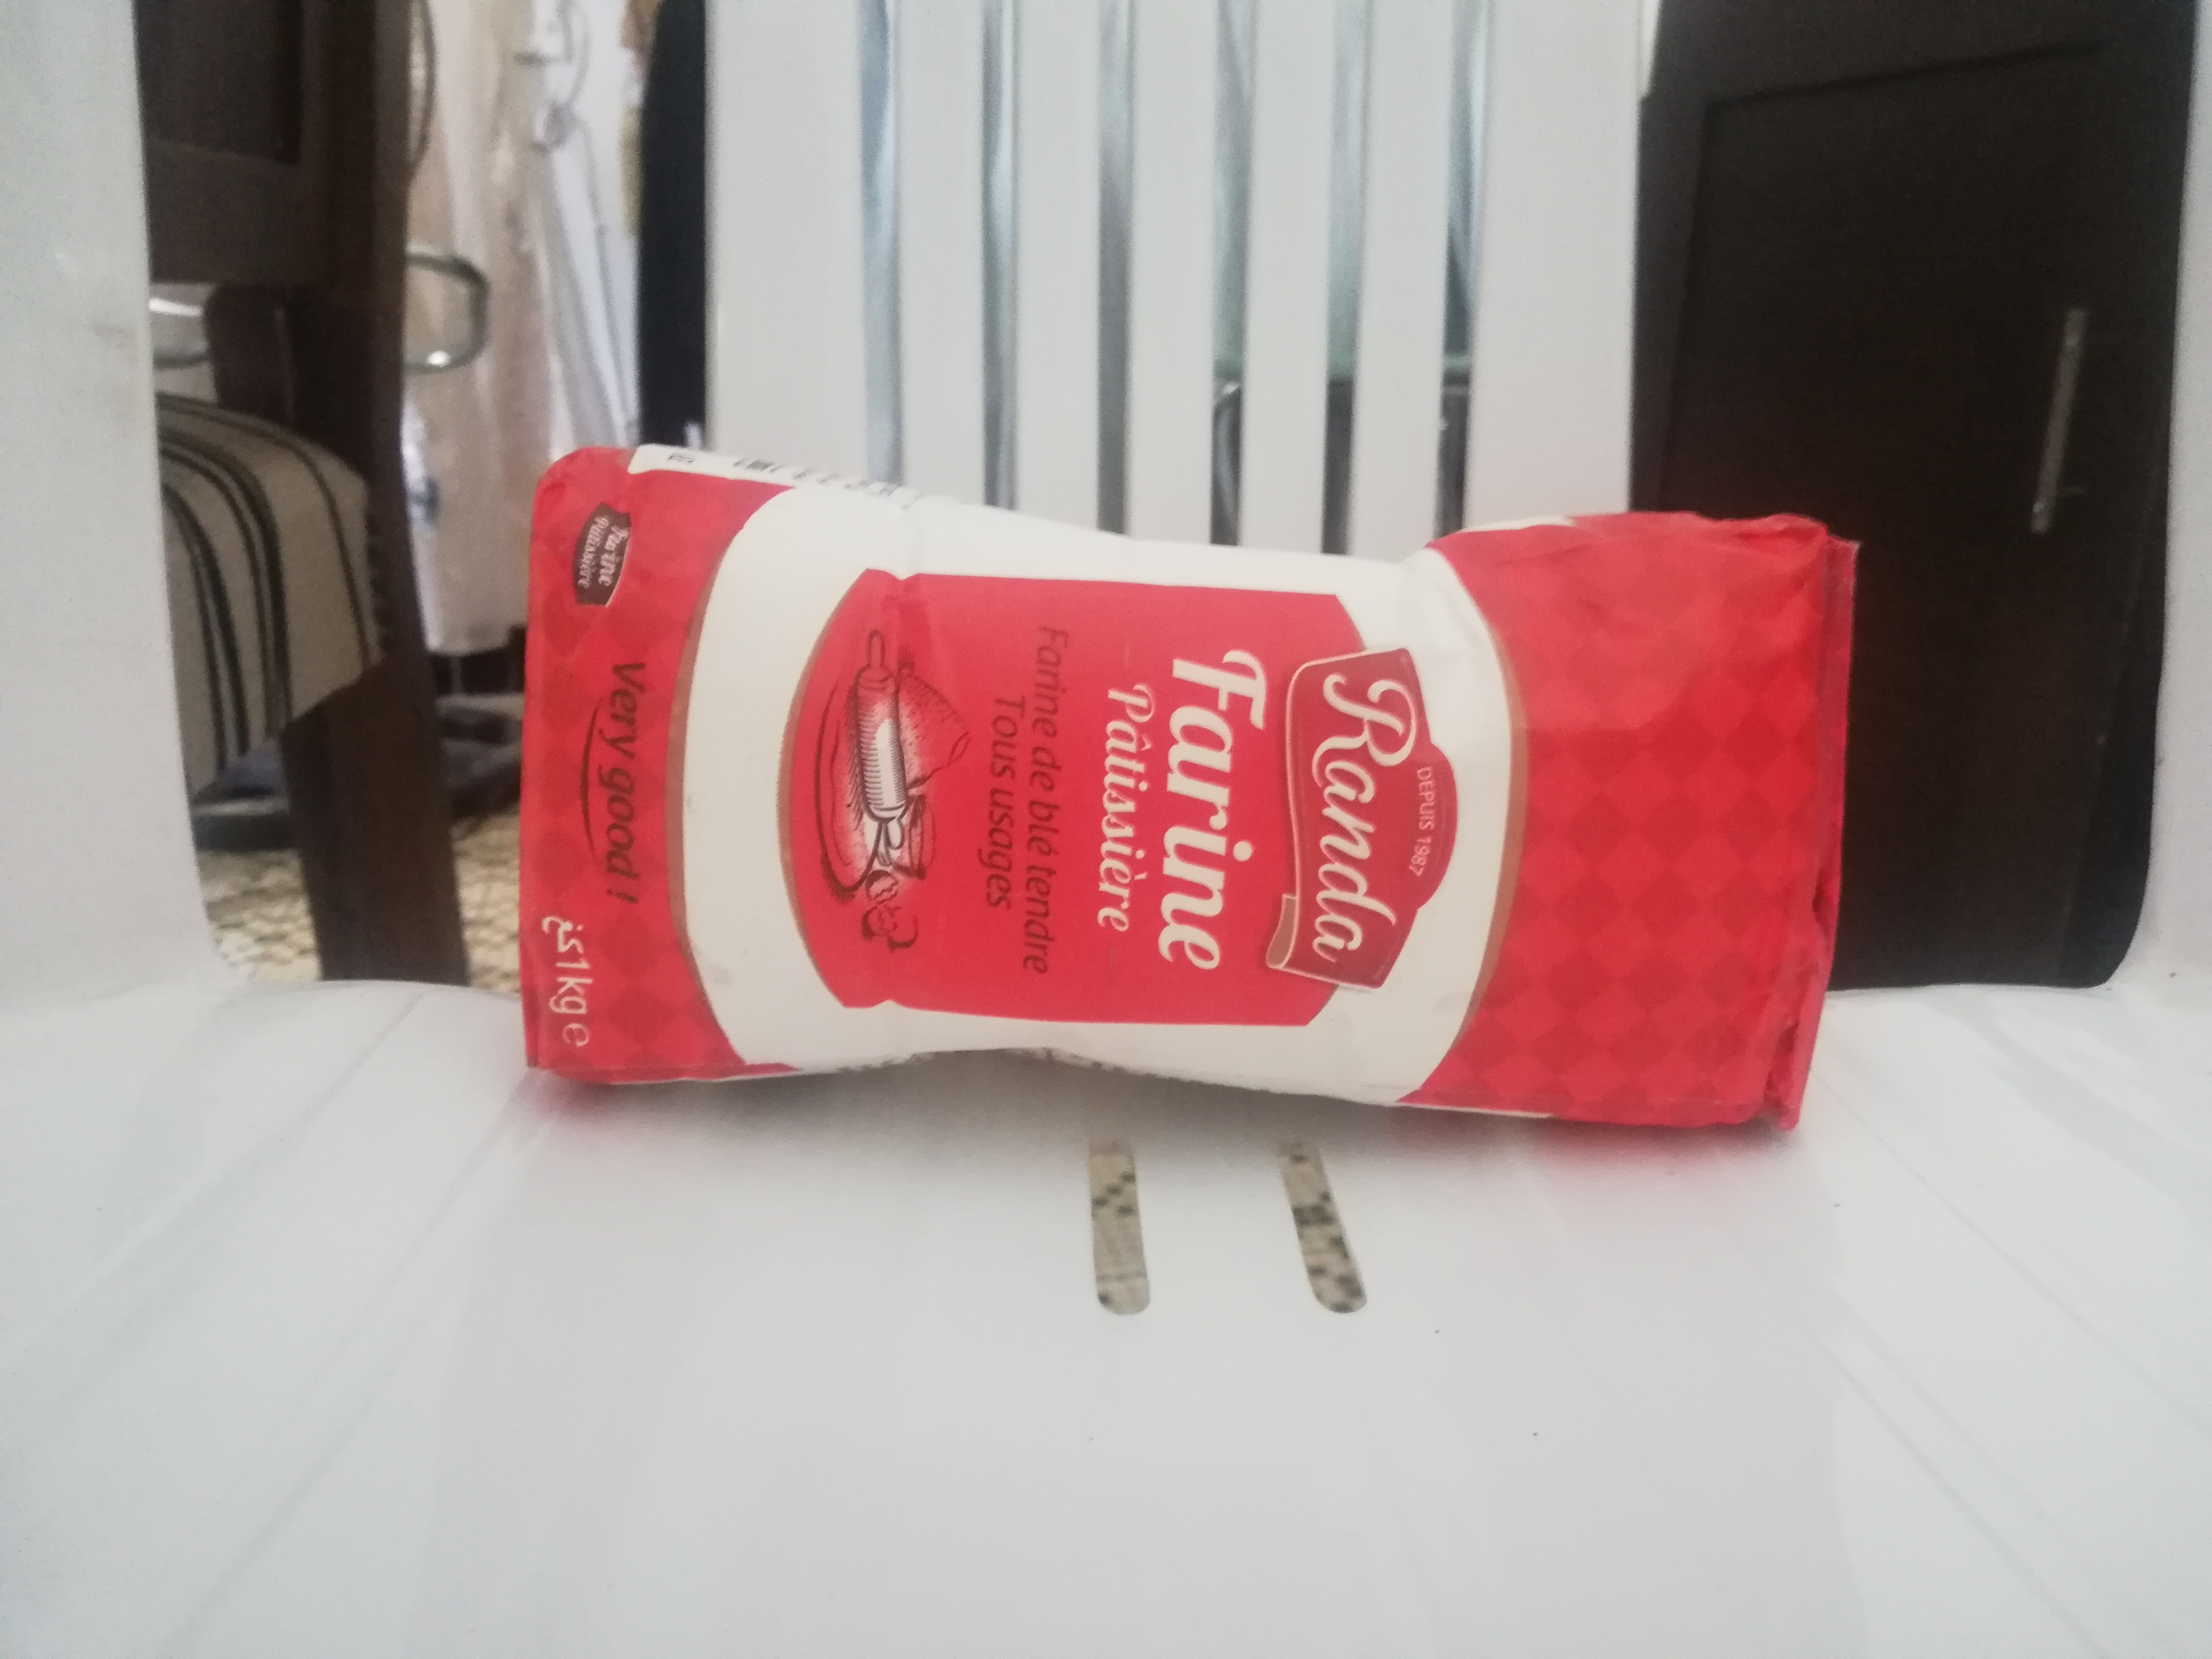Farine Randa: (514, 443, 1864, 1129)
